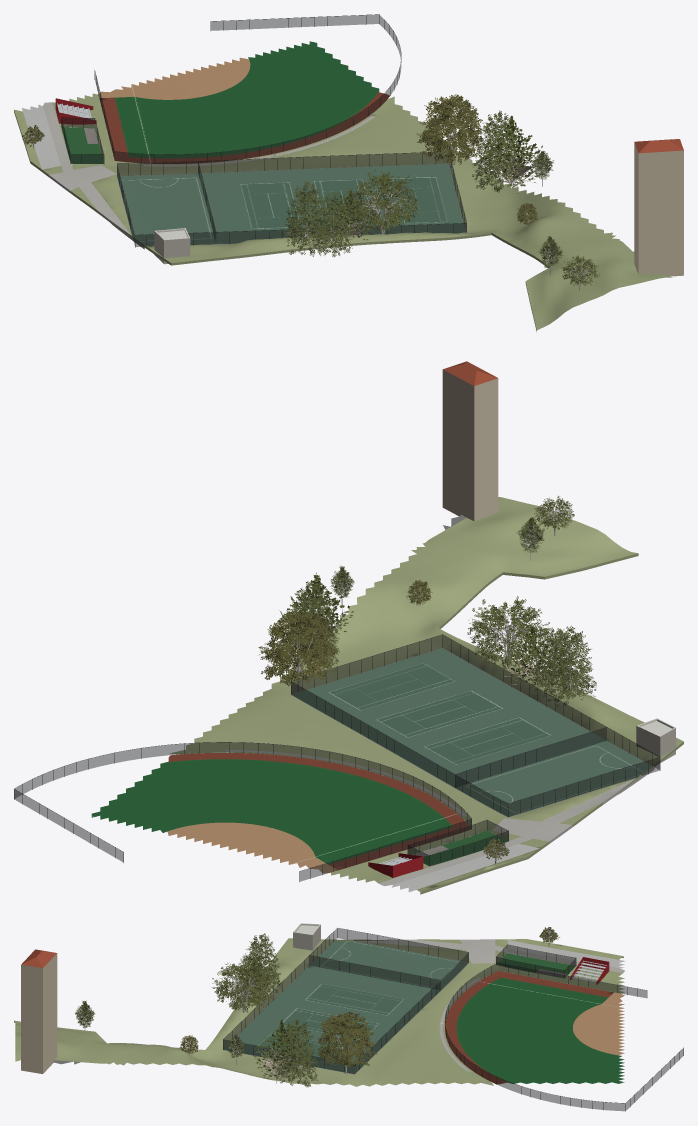
3 views of the same model, one above another, from view 1: azimuth 30°, elevation 25°; view 2: azimuth 150°, elevation 25°; view 3: azimuth 270°, elevation 25° (orthographic). The views are drawn at different scales.
Visible parts, largest first — view 1: SW_ground_northeast_asphalt_-1_4_UNVERIFIED, SW_ground_northeast_turf_-1_4_UNVERIFIED, SW_NE_field_bullpen_3B_fence_UNVERIFIED, SW_NE_bldg_CarParc_Diem_stair_tower_NE_UNVERIFIED, SW_Ne_trees_Tree_056_UNVERIFIEDspecies, SW_Ne_trees_Tree_061_UNVERIFIEDspecies, SW_Ne_trees_Tree_063_UNVERIFIEDspecies, SW_ground_northeast_gravel_-1_4_UNVERIFIED, SW_ground_northeast_concrete_-1_4_UNVERIFIED, SW_Ne_trees_Tree_058_UNVERIFIEDspecies, SW_NE_field_shed_SW_UNVERIFIED, SW_Ne_trees_Tree_119_UNVERIFIEDspecies (+1 smaller); view 2: SW_ground_northeast_asphalt_-1_4_UNVERIFIED, SW_ground_northeast_turf_-1_4_UNVERIFIED, SW_NE_field_bullpen_3B_fence_UNVERIFIED, SW_NE_bldg_CarParc_Diem_stair_tower_NE_UNVERIFIED, SW_Ne_trees_Tree_061_UNVERIFIEDspecies, SW_Ne_trees_Tree_056_UNVERIFIEDspecies, SW_Ne_trees_Tree_063_UNVERIFIEDspecies, SW_ground_northeast_gravel_-1_4_UNVERIFIED, SW_ground_northeast_concrete_-1_4_UNVERIFIED, SW_Ne_trees_Tree_058_UNVERIFIEDspecies, SW_NE_field_shed_SW_UNVERIFIED, SW_Ne_trees_Tree_119_UNVERIFIEDspecies; view 3: SW_ground_northeast_asphalt_-1_4_UNVERIFIED, SW_ground_northeast_turf_-1_4_UNVERIFIED, SW_NE_field_bullpen_3B_fence_UNVERIFIED, SW_NE_bldg_CarParc_Diem_stair_tower_NE_UNVERIFIED, SW_Ne_trees_Tree_061_UNVERIFIEDspecies, SW_Ne_trees_Tree_056_UNVERIFIEDspecies, SW_ground_northeast_gravel_-1_4_UNVERIFIED, SW_ground_northeast_concrete_-1_4_UNVERIFIED, SW_Ne_trees_Tree_063_UNVERIFIEDspecies, SW_Ne_trees_Tree_058_UNVERIFIEDspecies, SW_NE_field_shed_SW_UNVERIFIED, SW_Ne_trees_Tree_119_UNVERIFIEDspecies (+2 smaller).
Part boxes in pixels (x1,y1,x2,y2): SW_ground_northeast_asphalt_-1_4_UNVERIFIED: [14, 93, 672, 331]; SW_ground_northeast_turf_-1_4_UNVERIFIED: [62, 41, 389, 163]; SW_NE_field_bullpen_3B_fence_UNVERIFIED: [61, 14, 466, 247]; SW_NE_bldg_CarParc_Diem_stair_tower_NE_UNVERIFIED: [634, 139, 683, 276]; SW_Ne_trees_Tree_056_UNVERIFIEDspecies: [280, 110, 524, 257]; SW_Ne_trees_Tree_061_UNVERIFIEDspecies: [348, 94, 597, 290]; SW_Ne_trees_Tree_063_UNVERIFIEDspecies: [343, 169, 599, 285]; SW_ground_northeast_gravel_-1_4_UNVERIFIED: [84, 57, 250, 143]; SW_ground_northeast_concrete_-1_4_UNVERIFIED: [42, 102, 375, 241]; SW_Ne_trees_Tree_058_UNVERIFIEDspecies: [323, 115, 552, 247]; SW_NE_field_shed_SW_UNVERIFIED: [154, 228, 190, 264]; SW_Ne_trees_Tree_119_UNVERIFIEDspecies: [531, 151, 563, 275]; SW_ground_northeast_asphalt_-1_4_UNVERIFIED: [169, 497, 683, 894]; SW_ground_northeast_turf_-1_4_UNVERIFIED: [91, 753, 507, 870]; SW_NE_field_bullpen_3B_fence_UNVERIFIED: [14, 634, 660, 881]; SW_NE_bldg_CarParc_Diem_stair_tower_NE_UNVERIFIED: [442, 361, 498, 521]; SW_Ne_trees_Tree_061_UNVERIFIEDspecies: [258, 503, 573, 691]; SW_Ne_trees_Tree_056_UNVERIFIEDspecies: [285, 581, 596, 706]; SW_Ne_trees_Tree_063_UNVERIFIEDspecies: [467, 496, 574, 669]; SW_ground_northeast_gravel_-1_4_UNVERIFIED: [167, 822, 448, 873]; SW_ground_northeast_concrete_-1_4_UNVERIFIED: [225, 750, 642, 886]; SW_Ne_trees_Tree_058_UNVERIFIEDspecies: [279, 572, 556, 687]; SW_NE_field_shed_SW_UNVERIFIED: [636, 718, 675, 762]; SW_Ne_trees_Tree_119_UNVERIFIEDspecies: [330, 517, 544, 605]; SW_ground_northeast_asphalt_-1_4_UNVERIFIED: [14, 938, 625, 1086]; SW_ground_northeast_turf_-1_4_UNVERIFIED: [445, 953, 624, 1084]; SW_NE_field_bullpen_3B_fence_UNVERIFIED: [223, 928, 683, 1111]; SW_NE_bldg_CarParc_Diem_stair_tower_NE_UNVERIFIED: [21, 949, 57, 1073]; SW_Ne_trees_Tree_061_UNVERIFIEDspecies: [179, 966, 377, 1073]; SW_Ne_trees_Tree_056_UNVERIFIEDspecies: [235, 933, 318, 1087]; SW_ground_northeast_gravel_-1_4_UNVERIFIED: [536, 969, 624, 1055]; SW_ground_northeast_concrete_-1_4_UNVERIFIED: [353, 939, 624, 1070]; SW_Ne_trees_Tree_063_UNVERIFIEDspecies: [212, 959, 277, 1013]; SW_Ne_trees_Tree_058_UNVERIFIEDspecies: [235, 961, 312, 1083]; SW_NE_field_shed_SW_UNVERIFIED: [293, 923, 320, 950]; SW_Ne_trees_Tree_119_UNVERIFIEDspecies: [75, 1000, 244, 1064].
Bounding box in the file's own units: 107 × 38.68 × 177.
Materials: 31 (11 with a texture image).
